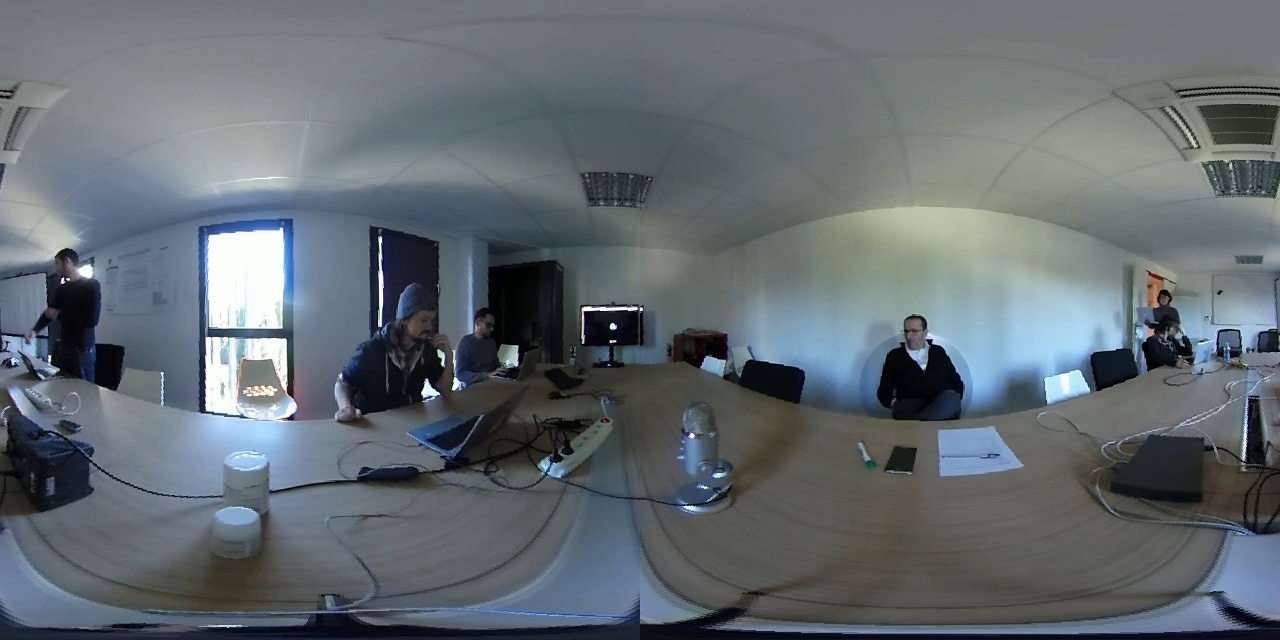person: (338, 265, 455, 415), (874, 303, 964, 412), (37, 237, 108, 365), (455, 300, 516, 377), (1146, 316, 1191, 365), (1152, 276, 1179, 315)
